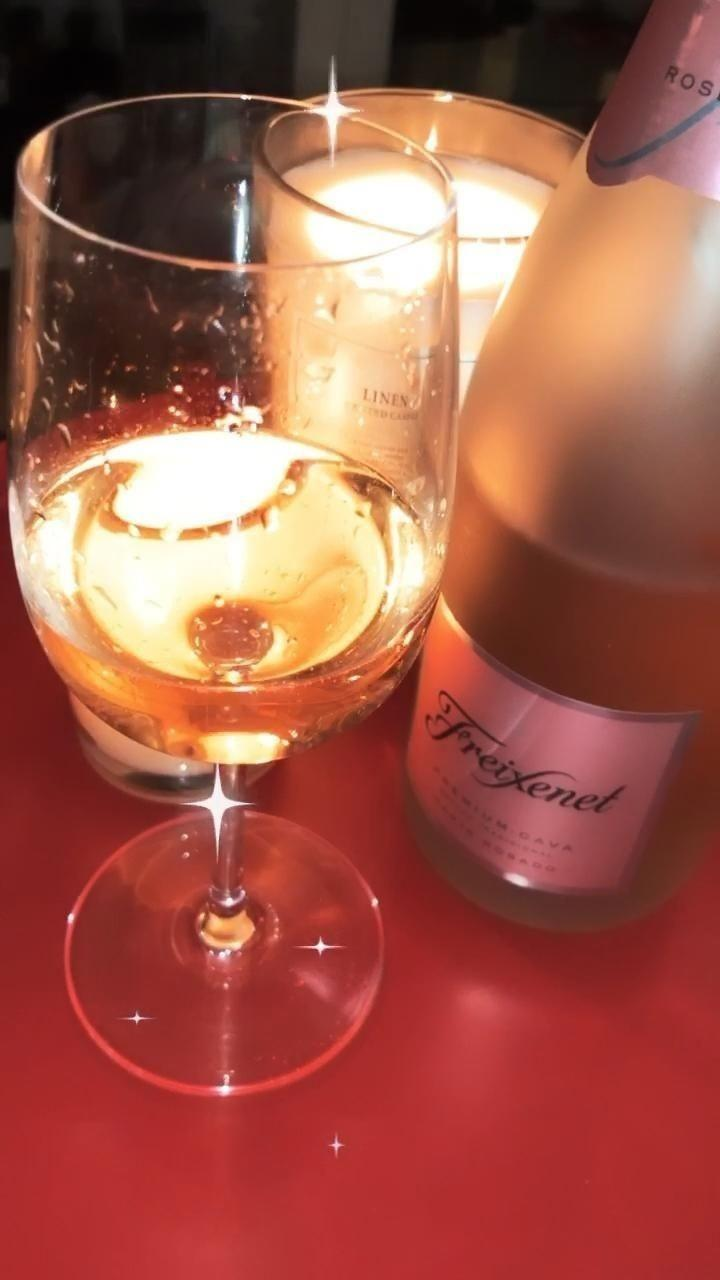glass-wine: (0, 87, 470, 1115)
